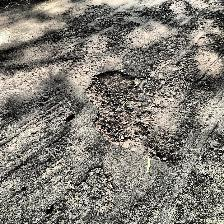pothole: (84, 70, 148, 148)
